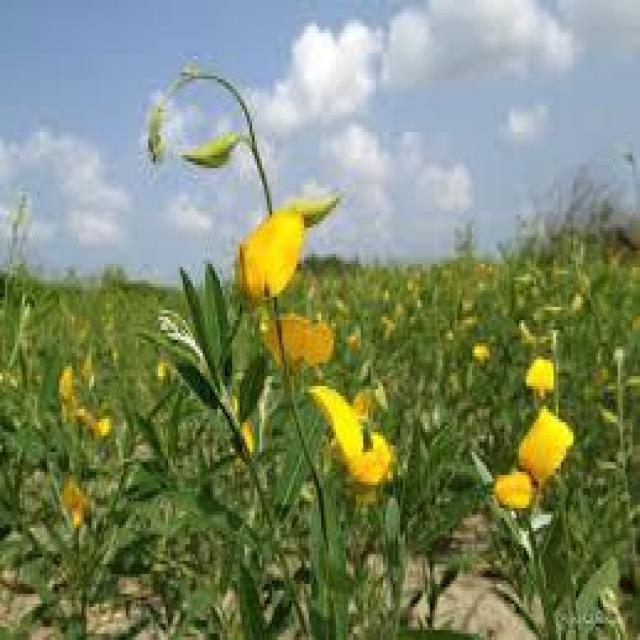organic waste: (309, 371, 395, 483), (237, 201, 319, 304), (504, 397, 576, 490)
